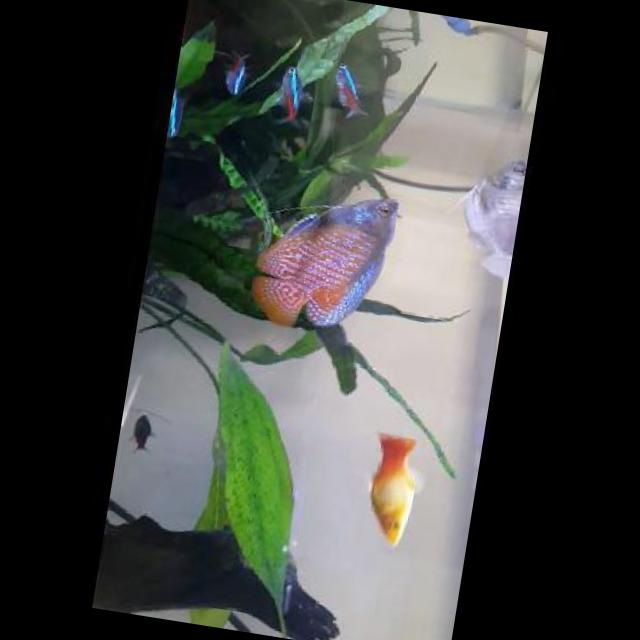Gourami: (245, 178, 402, 342)
